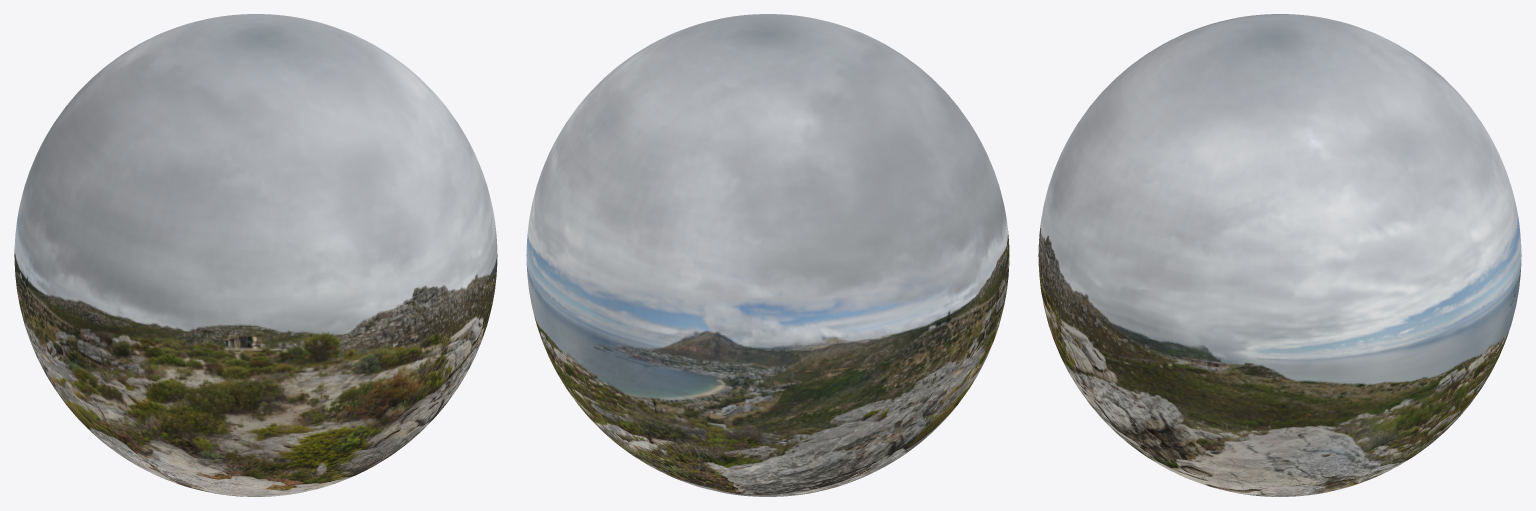
3 renders of one model, left to right at view 1: azimuth 30°, elevation 25°; view 2: azimuth 150°, elevation 25°; view 3: azimuth 270°, elevation 25°, orthographic.
Parts seen in each view (by area): view 1: exterior.coastal-panorama; view 2: exterior.coastal-panorama; view 3: exterior.coastal-panorama.
Boxes of the visible parts, <box> form: exterior.coastal-panorama: <box>14,14,497,496</box>; exterior.coastal-panorama: <box>526,14,1009,496</box>; exterior.coastal-panorama: <box>1038,14,1521,496</box>.
Size of the model in its own units: 80 by 80 by 80.
Materials: 18 (10 with a texture image).
